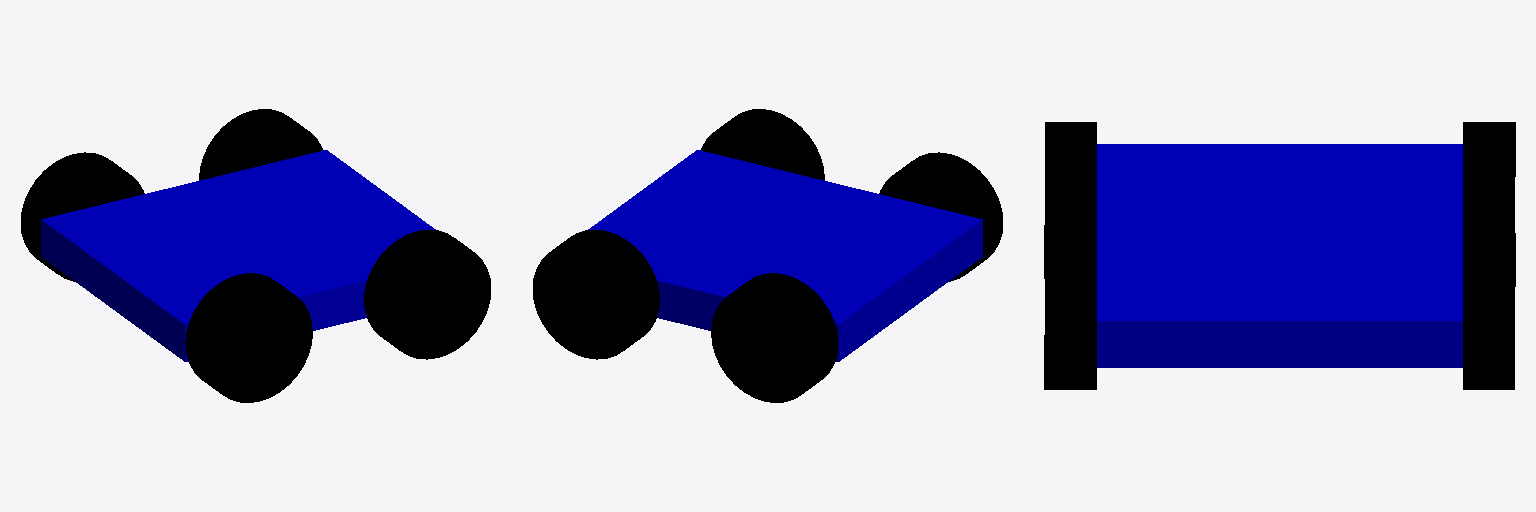
The robot description file, URDF, robot "rover":
<?xml version="1.0"?>

<robot name="rover">
 <material name="blue">
    <color rgba="0 0 0.8 1"/>
  </material>
  <material name="black">
    <color rgba="0 0 0 1"/>
    <texture filename =""/>
  </material>
  <material name="white">
    <color rgba="1 1 1 1"/>
  </material>
  <material name="red">
    <color rgba="1 0 0 1"/>
  </material>
  <link name="base_footprint">
    <!-- <visual>
      <geometry>
         <box size="0.01 0.01 0.01"/>
      </geometry>
      <material name="white"/>
    </visual> -->
  </link>

  <!-- Body-->
  <link name="base_link">
    <visual>
      <geometry>
         <box size="0.8 0.7 0.1"/>
      </geometry>
      <material name="blue"/>
    </visual>
    <collision>
      <origin xyz="0.0 0.0 0.0" rpy="0.0 0.0 0.0"/>
      <geometry>
        <box size="0.8 0.7 0.1"/>
      </geometry>
    </collision>
  </link>
 <joint name="base_joint" type="fixed">
    <parent link="base_footprint"/>
    <child link="base_link"/>
    <origin rpy="0 0 0" xyz="0.0 0.0 0.135" />
    <axis xyz="0.0 0.0 0.0"/>
  </joint>

  <!-- Front Right Wheel -->
  <link name="front_right_wheel">
    <visual>
      <geometry>
         <cylinder radius="0.15" length="0.1"/>
      </geometry>
      <material name="black"/>
    </visual>
    <collision>
      <origin xyz="0.0 0.0 0.0" rpy="0.0 0.0 0.0"/>
      <geometry>
         <cylinder radius="0.15" length="0.1"/>
      </geometry>
    </collision>
  </link>
  <joint name="front_right_wheel_joint" type="continuous">
      <parent link="base_link"/>
      <child link="front_right_wheel"/>
      <origin rpy="1.57 0 0" xyz="-0.25 0.4 0.0"/>
      <axis xyz="0.0 0.0 1.0"/>
      
  </joint>
  <!-- Front Left Wheel -->
  <link name="front_left_wheel">
    <visual>
      <geometry>
        <cylinder radius="0.15" length="0.1"/>
      </geometry>
      <material name="black"/>
    </visual>
    <collision>
      <origin xyz="0.0 0.0 0.0" rpy="0.0 0.0 0.0"/>
      <geometry>
         <cylinder radius="0.15" length="0.1"/>
      </geometry>
    </collision>
  </link>
  <joint name="front_left_wheel_joint" type="continuous">
    <parent link="base_link"/>
    <child link="front_left_wheel"/>
    <origin rpy="1.57 0 0" xyz="-0.25 -0.4 0.0"/>
    <axis xyz="0.0 0.0 1.0"/>
  </joint>

  <!-- Rear Right Wheel -->
  <link name="rear_right_wheel">
    <visual>
      <geometry>
         <cylinder radius="0.15" length="0.1"/>
      </geometry>
      <material name="black"/>
    </visual>
    <collision>
      <origin xyz="0.0 0.0 0.0" rpy="0.0 0.0 0.0"/>
      <geometry>
         <cylinder radius="0.15" length="0.1"/>
      </geometry>
    </collision>
  </link>
  <joint name="rear_right_wheel_joint" type="continuous">
      <parent link="base_link"/>
      <child link="rear_right_wheel"/>
      <origin rpy="1.57 0 0" xyz="0.25 0.4 0.0"/>
      <axis xyz="0.0 0.0 1.0"/>
  </joint>
  <!-- Rear Left Wheel -->
  <link name="rear_left_wheel">
    <visual>
      <geometry>
        <cylinder radius="0.15" length="0.1"/>
      </geometry>
      <material name="black"/>
    </visual>
    <collision>
      <origin xyz="0.0 0.0 0.0" rpy="0.0 0.0 0.0"/>
      <geometry>
         <cylinder radius="0.15" length="0.1"/>
      </geometry>
    </collision>
  </link>
  <joint name="rear_left_wheel_joint" type="continuous">
    <parent link="base_link"/>
    <child link="rear_left_wheel"/>
    <origin rpy="1.57 0 0" xyz="0.25 -0.4 0.0"/>
    <axis xyz="0.0 0.0 1.0"/>
  </joint>



</robot>

--- Facts derived from the render (not from the file) ---
The picture shows the robot from 3 angles, left to right: view 1: azimuth 30°, elevation 25°; view 2: azimuth 150°, elevation 25°; view 3: azimuth 270°, elevation 25°; orthographic projection.
Model rover with 6 links and 5 joints (4 continuous, 1 fixed), rooted at base_footprint, posed every joint at zero.
Visible links, largest first — view 1: base_link, front_left_wheel, rear_left_wheel, front_right_wheel, rear_right_wheel; view 2: base_link, front_right_wheel, rear_right_wheel, front_left_wheel, rear_left_wheel; view 3: base_link, rear_left_wheel, rear_right_wheel, front_right_wheel, front_left_wheel.
Boxes of the visible links, x1,y1,x2,y2 form: base_link: (41,150,435,361); front_left_wheel: (185,273,312,402); rear_left_wheel: (364,230,490,359); front_right_wheel: (21,152,144,281); rear_right_wheel: (199,109,322,180); base_link: (588,150,982,361); front_right_wheel: (711,273,838,402); rear_right_wheel: (533,230,659,359); front_left_wheel: (879,152,1002,281); rear_left_wheel: (701,109,824,180); base_link: (1097,144,1462,367); rear_left_wheel: (1044,233,1096,389); rear_right_wheel: (1463,233,1515,389); front_right_wheel: (1463,122,1515,232); front_left_wheel: (1044,122,1096,278).
Size in the robot's own frame: 0.8 by 0.9002 by 0.3001 metres.
Geometry: primitives only (box / cylinder / sphere), no mesh files.